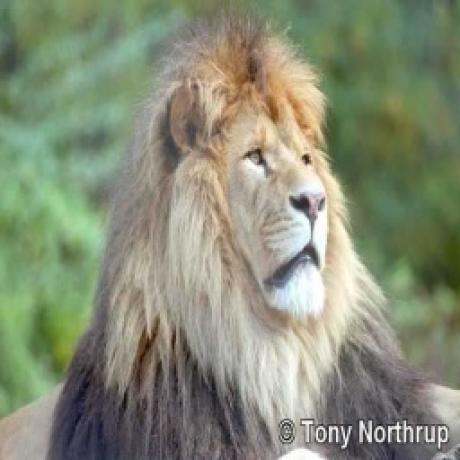Lion: (51, 15, 446, 460)
